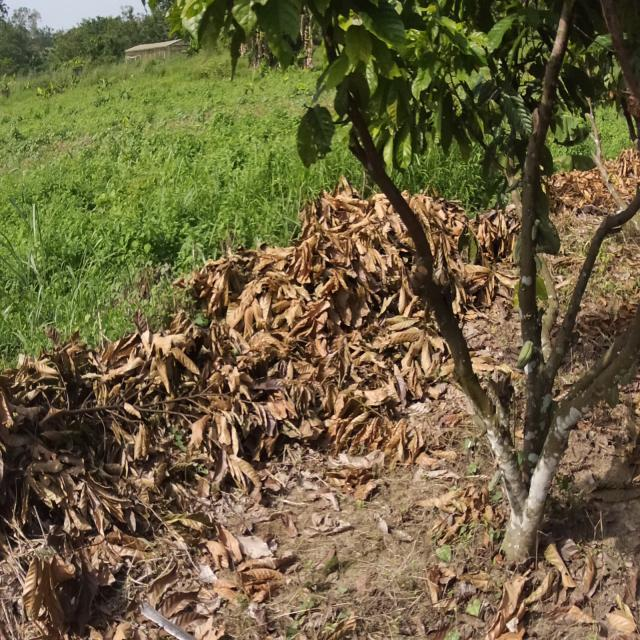Immature: (513, 333, 545, 371)
Mature_Unripe: (534, 194, 577, 280)
